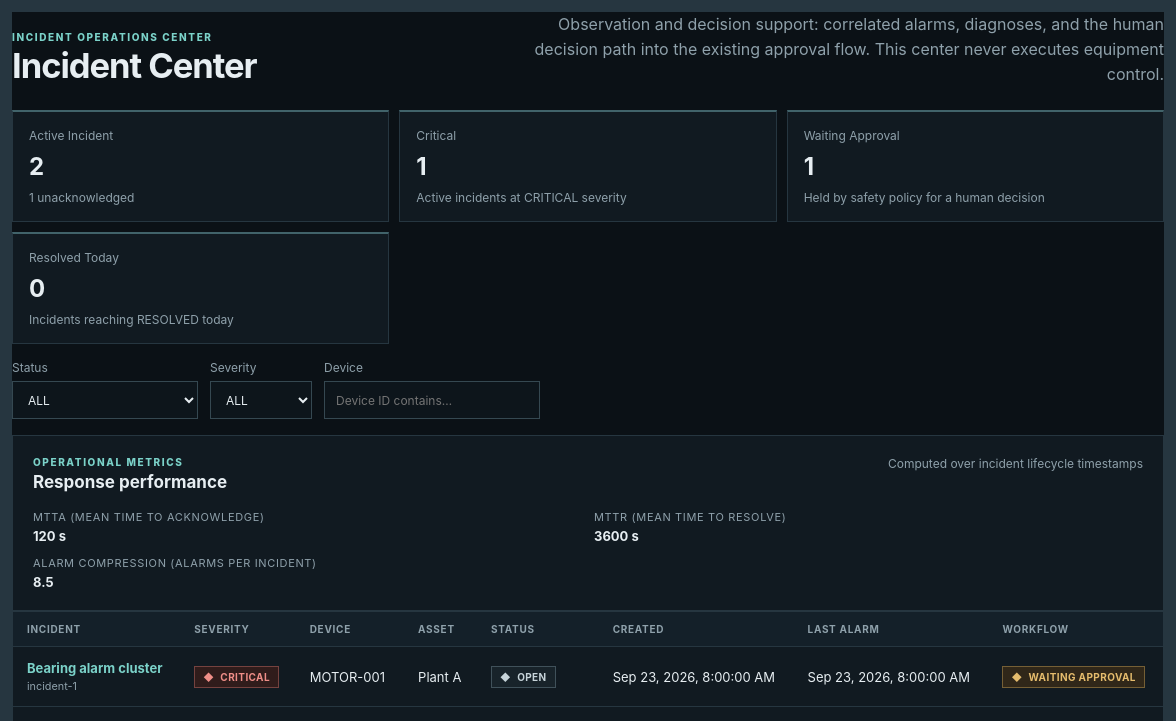
it: incident center list › navigates from a row to the incident detail
The image size is (1176, 721).
Click the link "Bearing alarm cluster" at (95, 668), box [27,660,162,676]
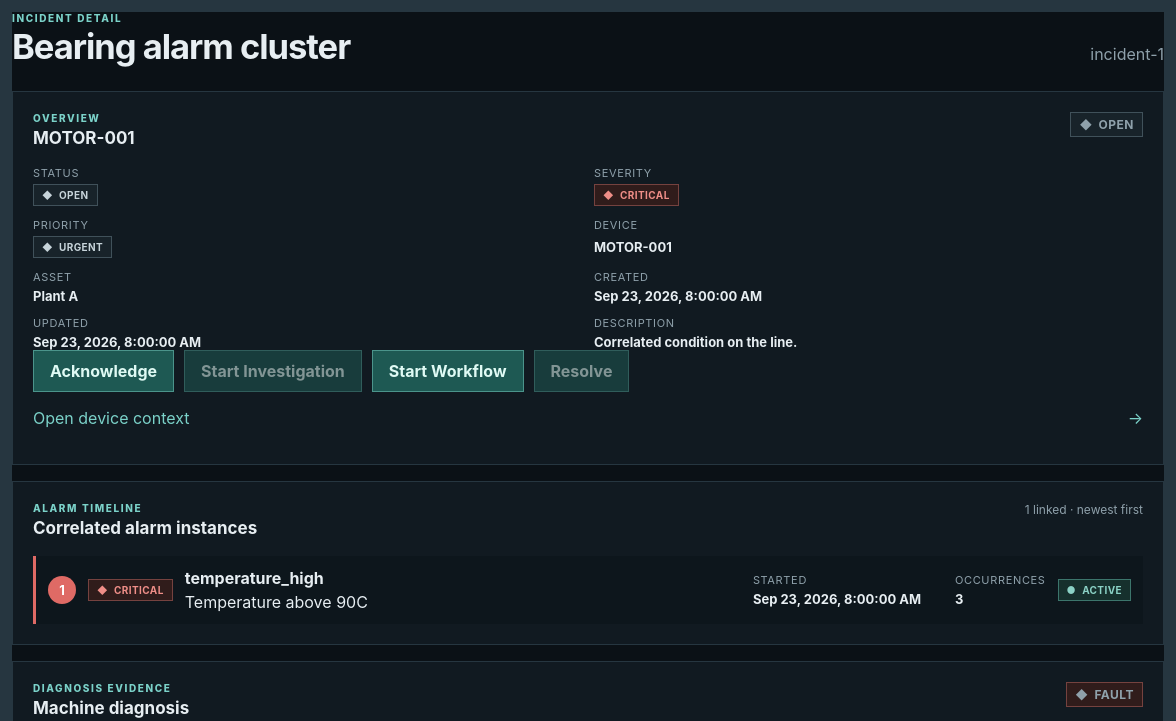
expect the heading "Correlated alarm instances" is shown: met, box [33,518,257,538]
